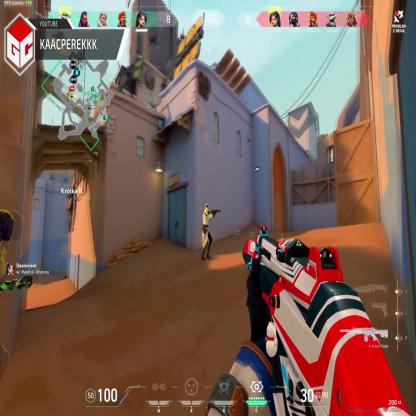enemy: (0, 206, 11, 389), (201, 204, 213, 266)
enemy_head: (0, 215, 14, 243), (205, 203, 210, 210)
